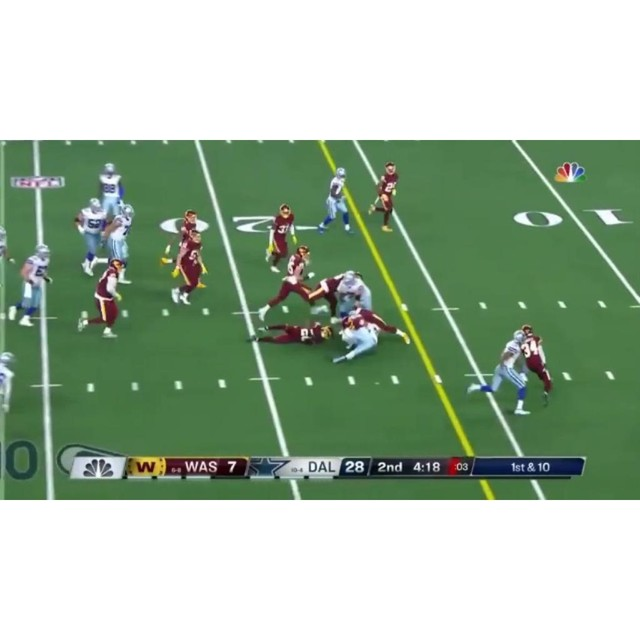american-football-player: (468, 330, 529, 416), (260, 243, 322, 325), (76, 257, 127, 341), (9, 243, 53, 327), (170, 230, 208, 307), (72, 199, 109, 276), (519, 327, 554, 406), (331, 312, 380, 366), (247, 321, 332, 349), (318, 167, 353, 234), (308, 271, 353, 323), (104, 204, 136, 276), (265, 204, 298, 273), (368, 161, 399, 232), (98, 163, 125, 221)
